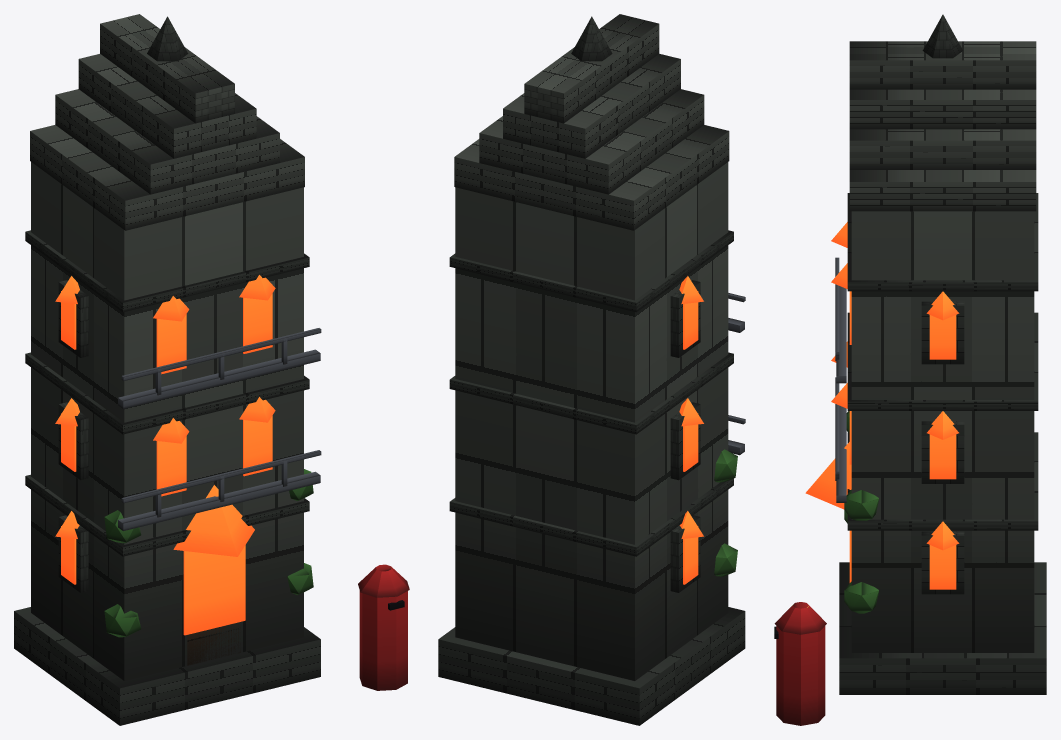
The model's file is rowhouse.glb.
3 views of the same model, side by side, from view 1: azimuth 30°, elevation 25°; view 2: azimuth 150°, elevation 25°; view 3: azimuth 270°, elevation 25° (orthographic). The views are drawn at different scales.
Parts seen in each view (by area): view 1: rowhouse; view 2: rowhouse; view 3: rowhouse.
Boxes of the visible parts, x1,y1,x2,y2 form: rowhouse: (14, 14, 409, 725); rowhouse: (438, 14, 745, 725); rowhouse: (774, 14, 1046, 725).
Size of the model in its own units: 1.56 by 3.44 by 1.34.
Materials: 1 (1 with a texture image).
